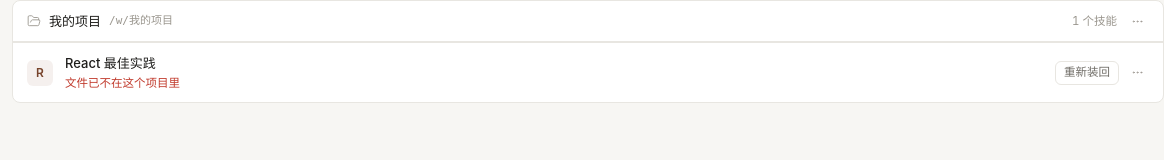
Test: 项目里的技能本体被删掉了 › 🔴 失败要有渲染点:重新装回报错时,项目页上看得到
This screenshot has width=1164, height=160.
Click the button "重新装回" at (1087, 73), box [1055,61,1119,85]
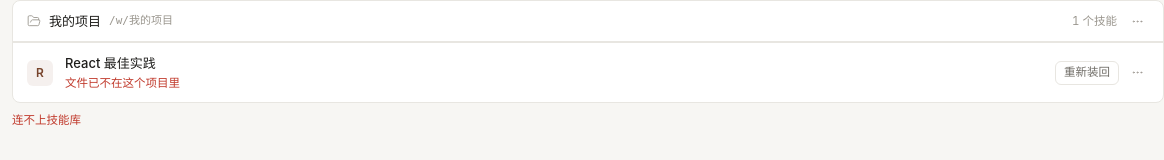
Now the text "连不上技能库" is shown, box [12,113,81,127]
